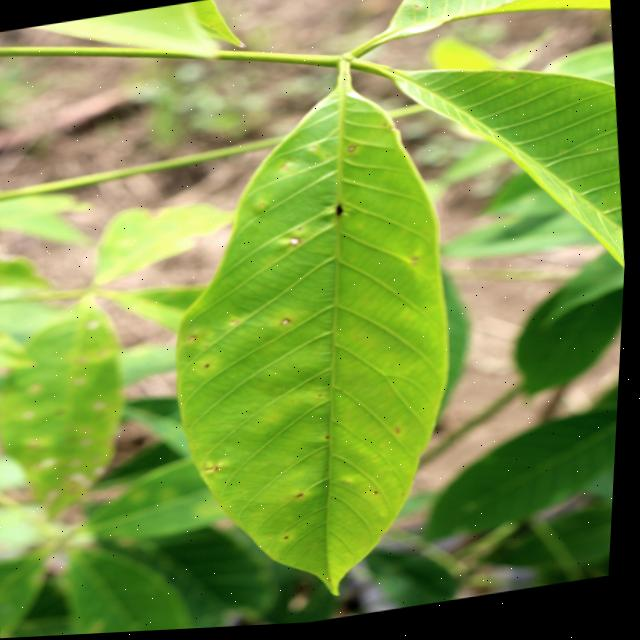Colletotrichum: (290, 240, 304, 249)
